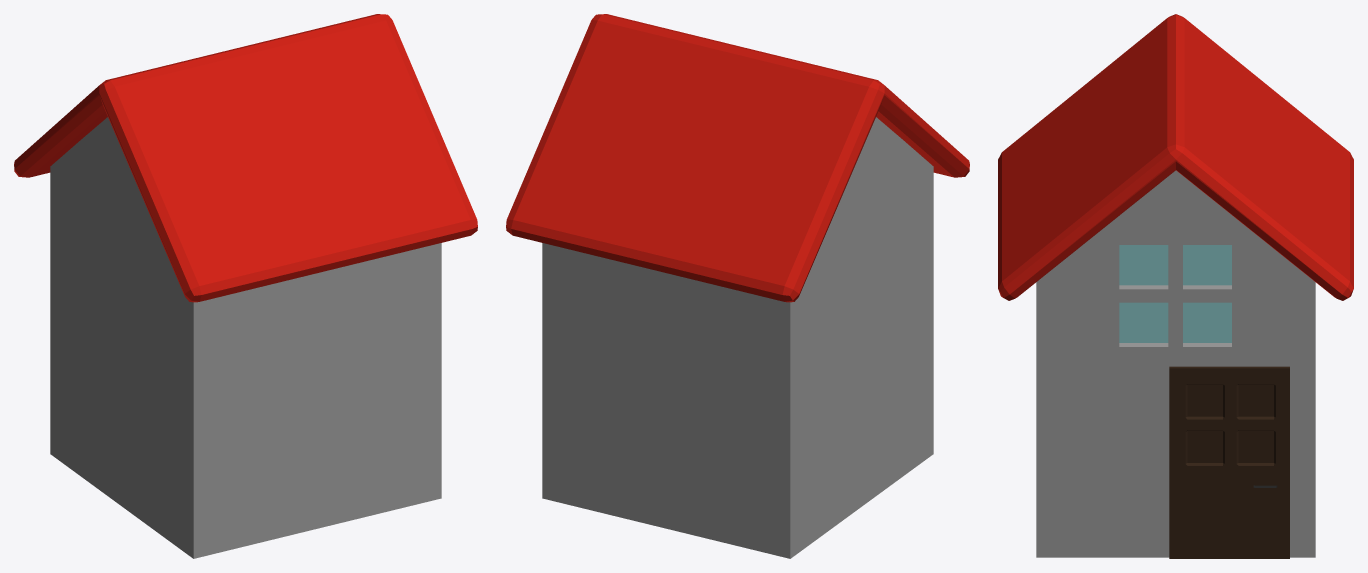
File: House.obj
3 renders of one model, left to right at view 1: azimuth 30°, elevation 25°; view 2: azimuth 150°, elevation 25°; view 3: azimuth 270°, elevation 25°, orthographic. The views are drawn at different scales.
Parts seen in each view (by area): view 1: House; view 2: House; view 3: House.
Part boxes in pixels (left/top/right/bottom): House: left=14, top=14, right=477, bottom=558; House: left=506, top=14, right=969, bottom=558; House: left=998, top=14, right=1353, bottom=558.
Bounding box in the file's own units: 2.36 × 3.31 × 2.55.
